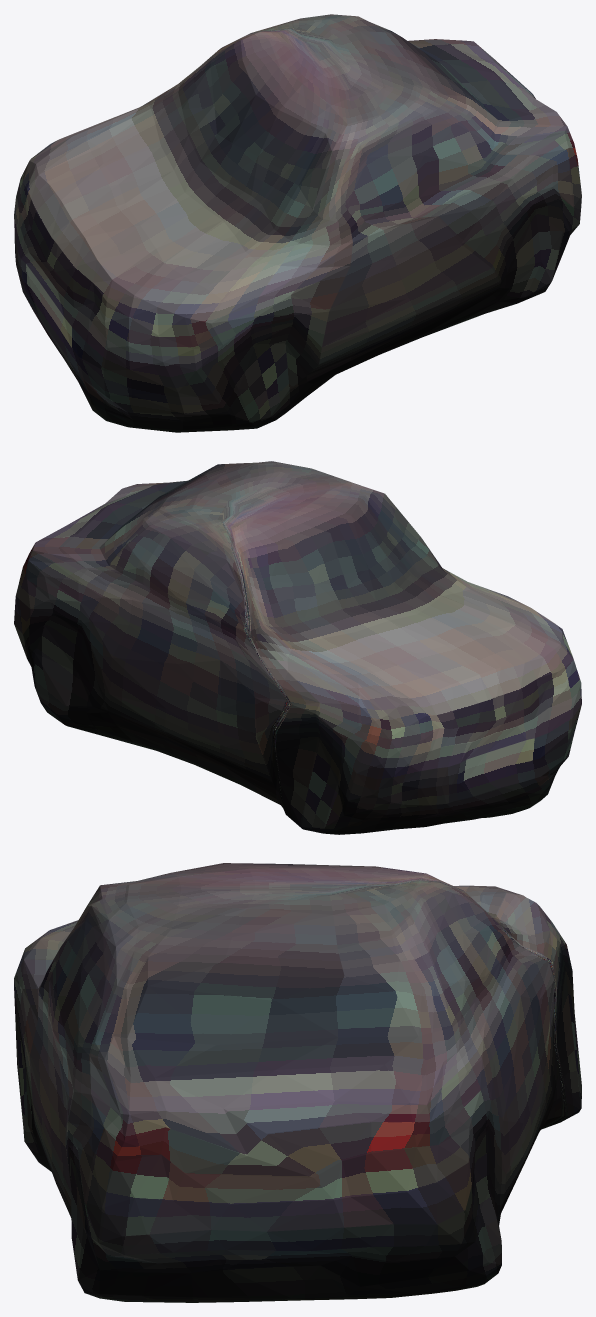
File: video3_411.obj
3 views of the same model, one above another, from view 1: azimuth 30°, elevation 25°; view 2: azimuth 150°, elevation 25°; view 3: azimuth 270°, elevation 25° (orthographic). The views are drawn at different scales.
Size of the model in its own units: 1 by 0.5638 by 0.723.
Materials: 1 (1 with a texture image).
